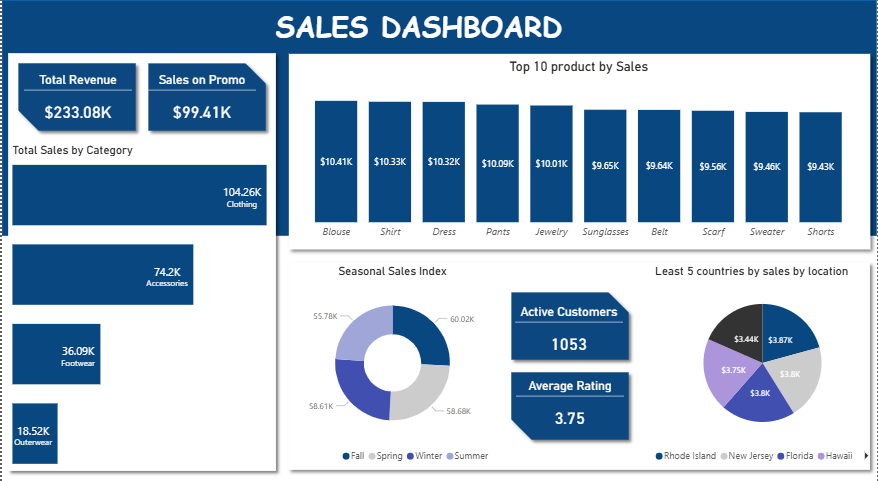

The dashboard page shown, as its layout file describes it:
{"tool":"powerbi","page":{"name":"Page 1","canvas":[1280,720],"ordinal":0},"visuals":[{"type":"shape","box":[0,14.6,1280.5,345.4],"z":0},{"type":"shape","box":[409.8,83.4,870.7,305.9],"z":1000},{"type":"columnChart","title":"Top 10 product by Sales","fields":{"Category":["Query2.item_purchased"],"Y":["Sum(Query2.Total_sales)"]},"box":[420.8,100.4,845.1,272.9],"z":2000},{"type":"shape","box":[410.2,389.1,869.8,322.2],"z":3000},{"type":"shape","box":[0,83.4,409.8,629.3],"z":4000},{"type":"clusteredBarChart","title":"Total Sales by Category","fields":{"Category":["sales by categories.category"],"Y":["Sum(sales by categories.total_sales)"]},"box":[10.2,223.9,444.9,474.1],"z":5000},{"type":"shape","box":[204.9,98,190.2,117.1],"z":6000},{"type":"shape","box":[14.6,98,190.2,117.1],"z":7000},{"type":"card","title":"Total Revenue","fields":{"Values":["Sum(shopping_trends.Purchase_Amount_USD)"]},"box":[27.8,120,166.8,89.3],"z":8000},{"type":"donutChart","title":"Seasonal Sales Index","fields":{"Category":["Query3.season"],"Y":["Sum(Query3.Total_Sales)"]},"box":[421.5,401,300,300],"z":10000},{"type":"pieChart","fields":{"Category":["Query2.location"],"Y":["Sum(Query2.Item_Purchased)"]},"box":[955.6,401,314.6,300],"z":11000},{"type":"shape","box":[736.1,550.2,190.2,117.1],"z":12000},{"type":"shape","box":[736.1,433.2,190.2,117.1],"z":13000},{"type":"card","title":"Sales on Promo","fields":{"Values":["Sum(Query3.total_sales)"]},"box":[209.3,120,166.8,89.3],"z":14000},{"type":"card","title":"Active Customers","fields":{"Values":["Sum(Query5.active_customers)"]},"box":[746.3,459.5,166.8,89.3],"z":14001},{"type":"textbox","title":"SALES DASHBOARD","box":[395.1,23.4,436.1,60],"z":14002},{"type":"card","title":"Average Rating","fields":{"Values":["Avg(shopping_trends.Review_Rating)"]},"box":[747.8,567.8,166.8,89.3],"z":14003}]}

Visuals, with their boxes in screenshot pixels (x1, y1, x2, y2), scaled from the page's 1280x720 canvas onto the 878x481 screenshot:
shape: [x1=0, y1=10, x2=877, y2=240]
shape: [x1=281, y1=56, x2=877, y2=260]
"Top 10 product by Sales" columnChart: [x1=289, y1=67, x2=868, y2=249]
shape: [x1=281, y1=260, x2=877, y2=475]
shape: [x1=0, y1=56, x2=281, y2=476]
"Total Sales by Category" clusteredBarChart: [x1=7, y1=150, x2=312, y2=466]
shape: [x1=141, y1=65, x2=271, y2=144]
shape: [x1=10, y1=65, x2=140, y2=144]
"Total Revenue" card: [x1=19, y1=80, x2=133, y2=140]
"Seasonal Sales Index" donutChart: [x1=289, y1=268, x2=495, y2=468]
pieChart - Query2.location x Sum(Query2.Item_Purchased): [x1=655, y1=268, x2=871, y2=468]
shape: [x1=505, y1=368, x2=635, y2=446]
shape: [x1=505, y1=289, x2=635, y2=368]
"Sales on Promo" card: [x1=144, y1=80, x2=258, y2=140]
"Active Customers" card: [x1=512, y1=307, x2=626, y2=367]
"SALES DASHBOARD" textbox: [x1=271, y1=16, x2=570, y2=56]
"Average Rating" card: [x1=513, y1=379, x2=627, y2=439]
